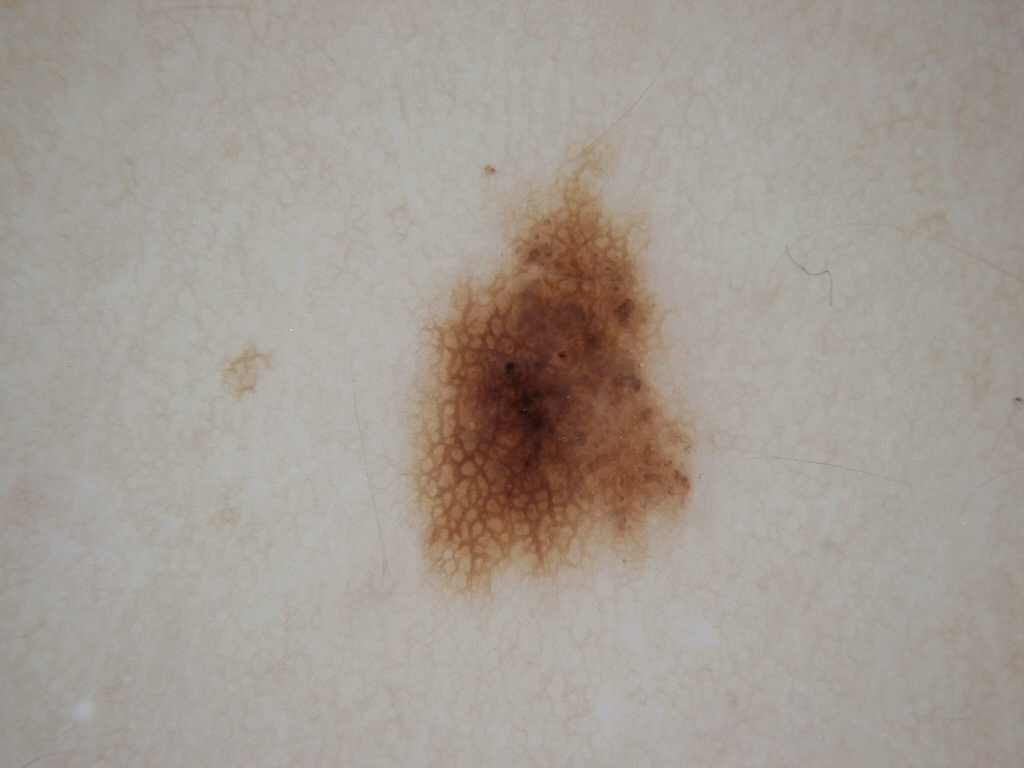Detected Lesion: (396, 140, 707, 600)
